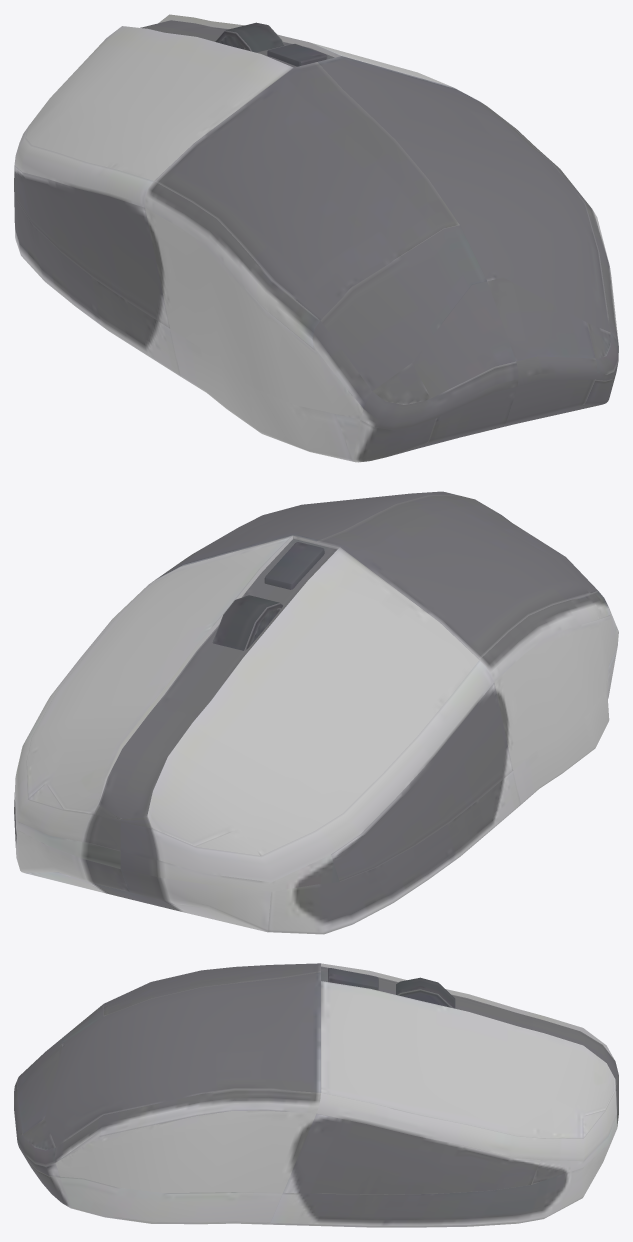
File: mouse.glb
3 renders of one model, top to bottom at view 1: azimuth 30°, elevation 25°; view 2: azimuth 150°, elevation 25°; view 3: azimuth 270°, elevation 25°, orthographic. The views are drawn at different scales.
Parts seen in each view (by area): view 1: SM_Med_PC_Mouse; view 2: SM_Med_PC_Mouse; view 3: SM_Med_PC_Mouse.
Boxes of the visible parts, x1,y1,x2,y2 form: SM_Med_PC_Mouse: [14, 14, 618, 462]; SM_Med_PC_Mouse: [14, 491, 618, 934]; SM_Med_PC_Mouse: [14, 963, 618, 1227].
Bounding box in the file's own units: 0.0619 × 0.0415 × 0.1189.
Materials: 1 (1 with a texture image).
